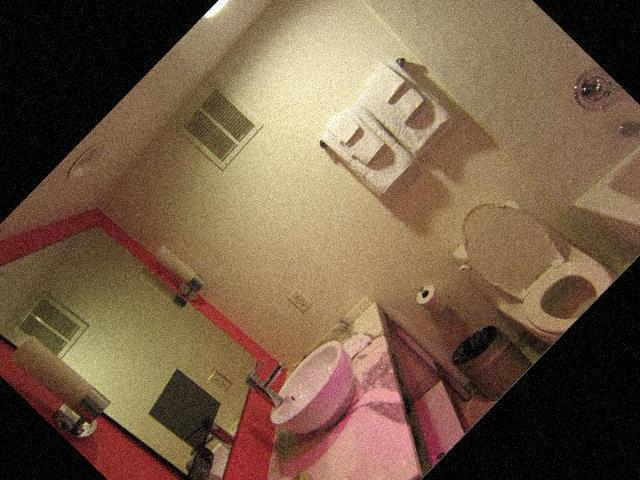Bote de Basura: (443, 310, 538, 405)
Lavamanos: (231, 302, 384, 455)
Sanitario: (445, 186, 607, 347)
